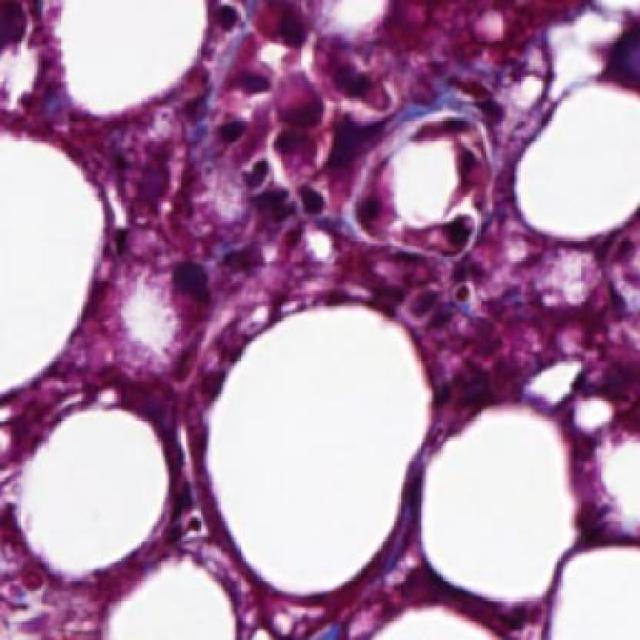inflammation: (197, 84, 340, 226), (402, 266, 516, 369)
